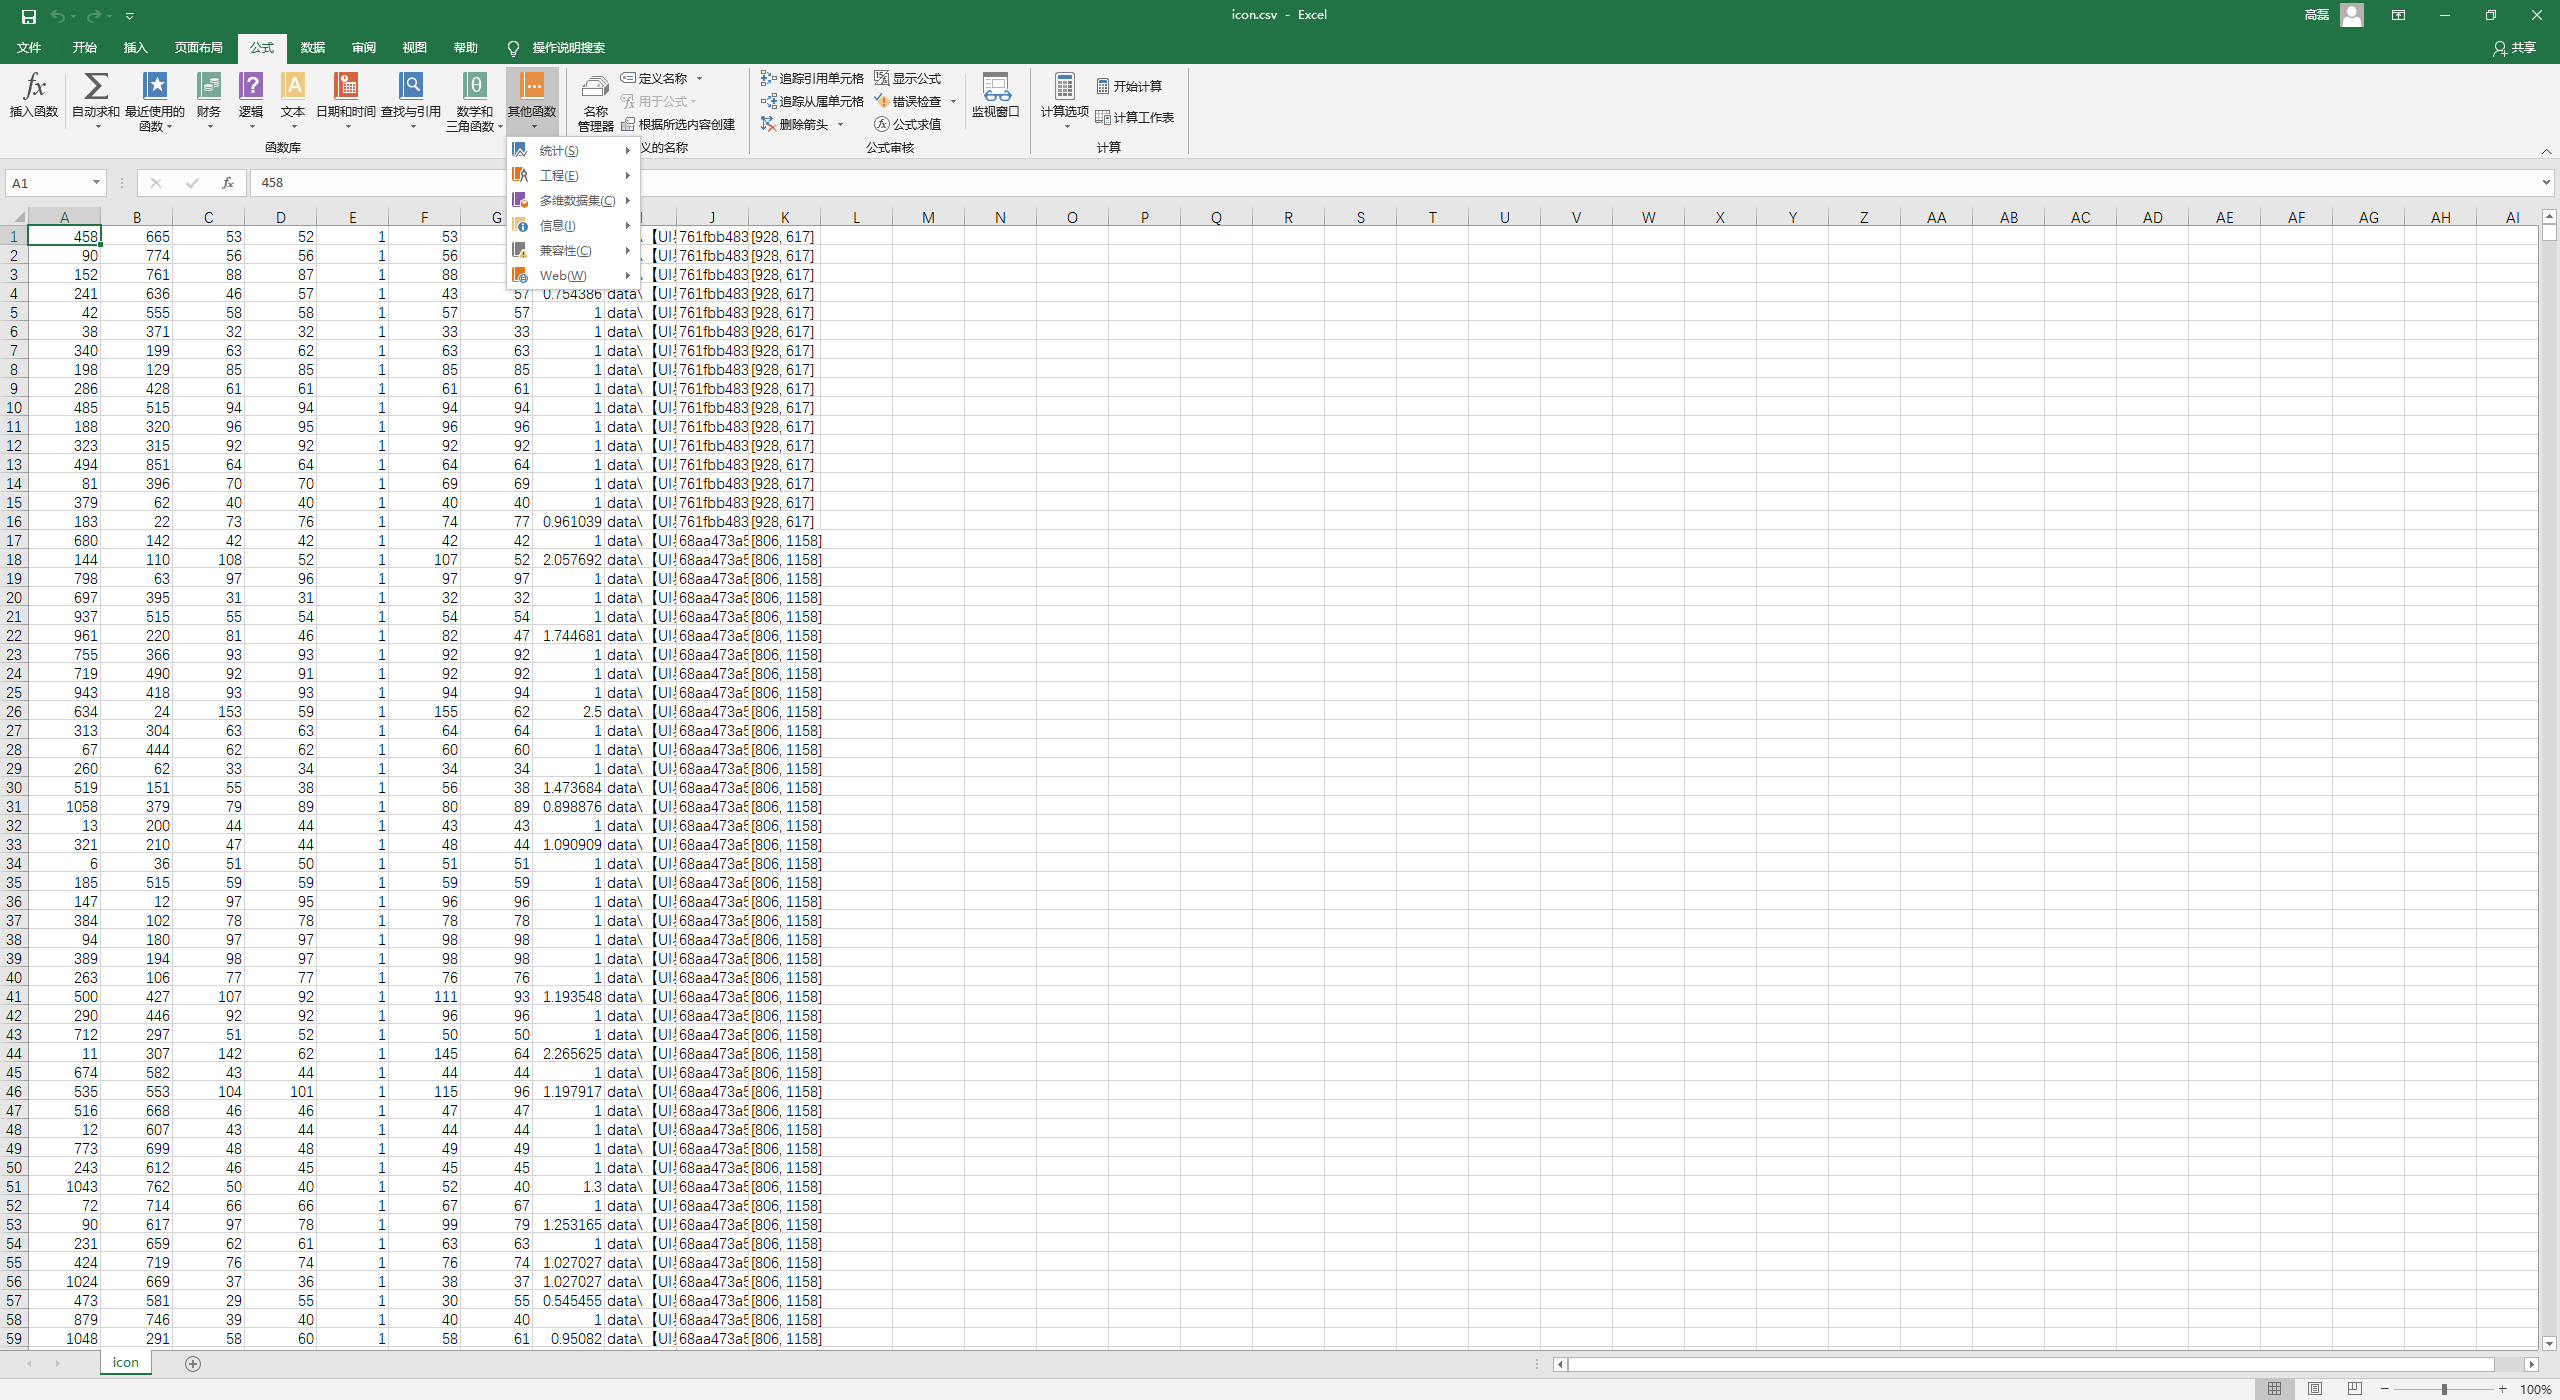character: (1226, 3, 1334, 24), (783, 69, 865, 84), (541, 191, 615, 209), (781, 95, 865, 109), (533, 40, 607, 55), (640, 117, 734, 129), (576, 107, 614, 133), (1115, 110, 1176, 124), (860, 141, 919, 155), (538, 267, 590, 283), (128, 103, 184, 117), (538, 217, 583, 234), (541, 243, 595, 257), (381, 105, 441, 117), (783, 117, 829, 133), (895, 116, 941, 131), (9, 105, 60, 119), (317, 105, 376, 117), (641, 140, 691, 153), (1040, 103, 1090, 117), (640, 71, 688, 84), (974, 105, 1022, 119), (640, 95, 686, 109), (71, 105, 122, 117), (896, 95, 941, 109), (1115, 78, 1160, 91), (176, 40, 226, 52), (538, 143, 581, 157), (893, 72, 941, 84), (509, 105, 559, 116), (402, 40, 429, 57), (2303, 5, 2331, 22), (446, 121, 491, 131), (541, 171, 579, 183), (262, 143, 305, 153), (1096, 136, 1122, 153), (16, 40, 43, 55), (72, 40, 100, 55), (348, 40, 379, 53), (110, 1355, 141, 1369), (452, 40, 481, 53), (459, 107, 495, 117), (2513, 40, 2538, 55), (122, 40, 148, 53), (260, 176, 286, 190), (247, 41, 276, 53), (9, 176, 31, 191), (2520, 1384, 2553, 1395), (298, 41, 326, 53), (236, 107, 265, 116), (197, 105, 221, 116), (138, 121, 160, 131), (281, 105, 307, 114)
icon: (979, 67, 1014, 103), (234, 69, 267, 103), (278, 67, 309, 103), (193, 71, 226, 103), (515, 69, 548, 102), (396, 69, 428, 102), (140, 69, 171, 102), (459, 69, 490, 102), (79, 71, 110, 102), (331, 71, 360, 102), (1052, 69, 1079, 102), (579, 72, 610, 98), (21, 71, 48, 98), (2338, 3, 2363, 28), (2258, 1378, 2288, 1398), (181, 1352, 205, 1376), (215, 172, 240, 195), (2300, 1379, 2327, 1398), (2339, 1379, 2367, 1398), (17, 5, 40, 28), (2434, 3, 2455, 24), (2526, 3, 2546, 24), (147, 172, 165, 193), (871, 67, 891, 86), (757, 67, 777, 86), (2481, 5, 2501, 24), (2388, 5, 2408, 24), (510, 140, 529, 159), (617, 91, 636, 110), (872, 114, 891, 133), (759, 114, 777, 133), (760, 91, 779, 110), (1093, 76, 1112, 95), (1550, 1355, 1570, 1372), (503, 40, 522, 57), (617, 67, 636, 84), (512, 214, 529, 233), (2489, 40, 2508, 57), (183, 176, 203, 191), (48, 7, 66, 24), (510, 241, 528, 259), (510, 266, 528, 283), (510, 166, 528, 183), (872, 91, 890, 109), (1093, 109, 1112, 124), (90, 171, 103, 191), (84, 9, 102, 24), (619, 116, 636, 131), (512, 190, 528, 207), (2541, 1334, 2557, 1352), (2524, 1355, 2539, 1372), (2376, 1379, 2391, 1397), (2438, 1381, 2453, 1397), (121, 9, 136, 22), (286, 117, 302, 131), (341, 119, 355, 133), (407, 119, 421, 133), (528, 119, 541, 133), (2543, 209, 2557, 222), (622, 267, 634, 283), (834, 116, 846, 131), (2496, 1381, 2508, 1397), (164, 119, 176, 133), (245, 119, 259, 131), (203, 119, 217, 131), (946, 95, 960, 107), (1060, 119, 1074, 131), (91, 119, 103, 131), (67, 9, 78, 22), (116, 176, 126, 190), (2539, 147, 2553, 157), (2539, 178, 2553, 188), (495, 117, 503, 133), (622, 245, 633, 257), (693, 72, 703, 84), (26, 1359, 36, 1371), (105, 9, 114, 22), (624, 195, 634, 205), (688, 95, 698, 105), (622, 145, 633, 155), (53, 1360, 66, 1369), (624, 217, 631, 231), (624, 169, 631, 181)
